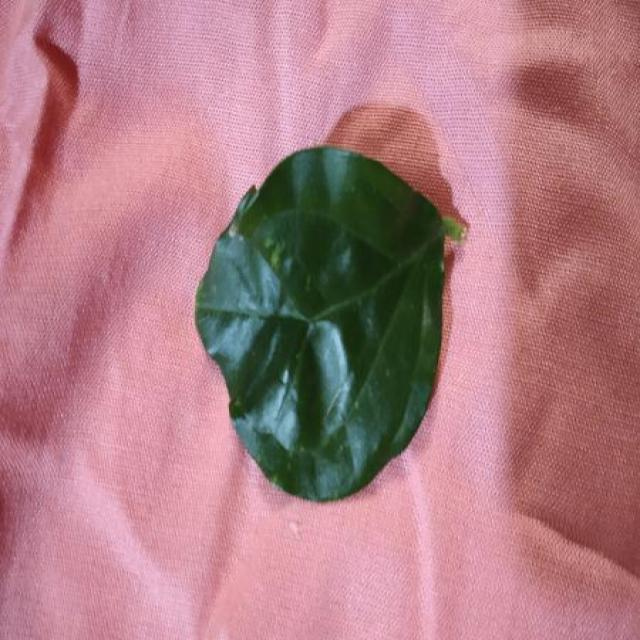Jasmine: (195, 146, 465, 501)
